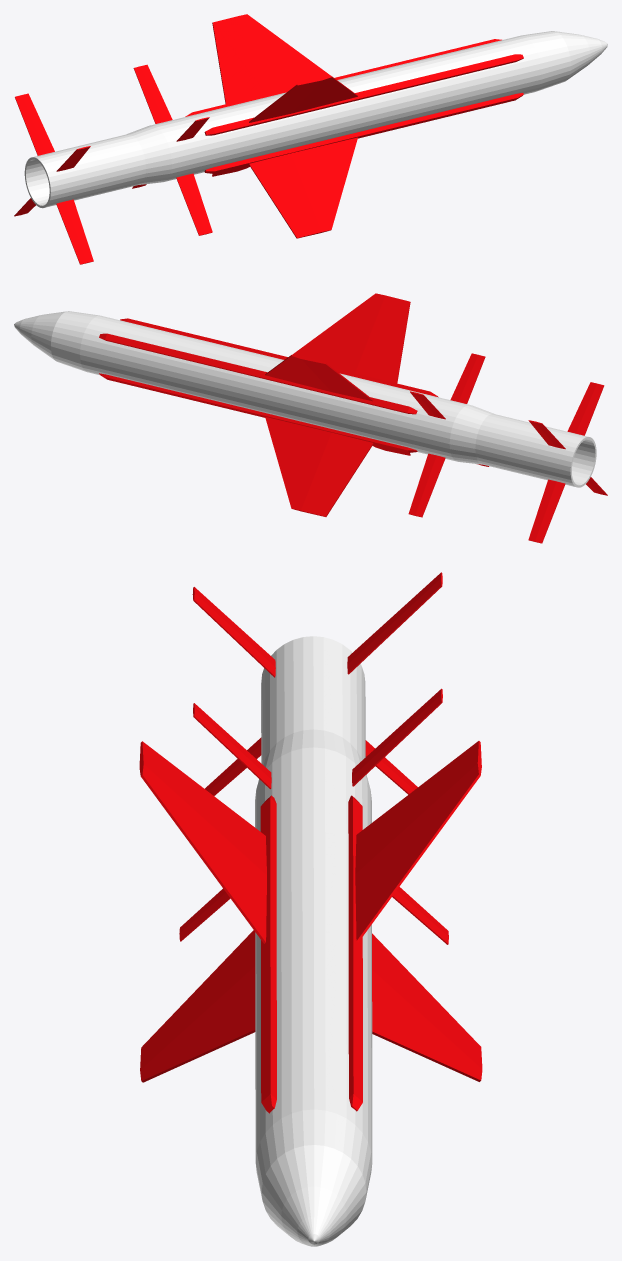
File: Missile.fbx
3 views of the same model, one above another, from view 1: azimuth 30°, elevation 25°; view 2: azimuth 150°, elevation 25°; view 3: azimuth 270°, elevation 25° (orthographic). The views are drawn at different scales.
Parts seen in each view (by area): view 1: Cylinder.001; view 2: Cylinder.001; view 3: Cylinder.001.
Boxes of the visible parts, <box> form: Cylinder.001: <box>14,14,607,264</box>; Cylinder.001: <box>14,293,607,543</box>; Cylinder.001: <box>139,572,482,1246</box>.
Size of the model in its own units: 3561 by 929 by 929.
